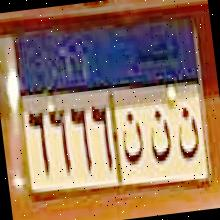6: (47, 105, 74, 176), (70, 102, 96, 175), (90, 100, 115, 174), (28, 106, 52, 178)
noon: (170, 96, 203, 160), (116, 104, 148, 167), (144, 100, 175, 164)
